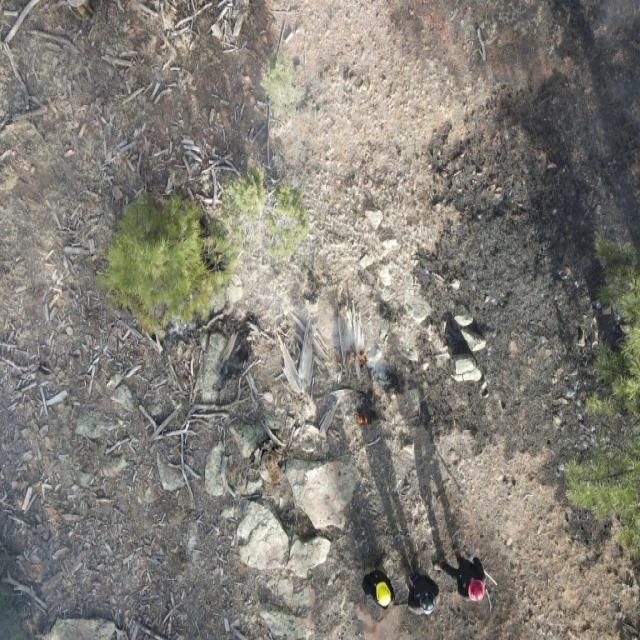fire: (347, 348, 370, 368), (351, 410, 372, 430)
smoke: (232, 262, 407, 438)
